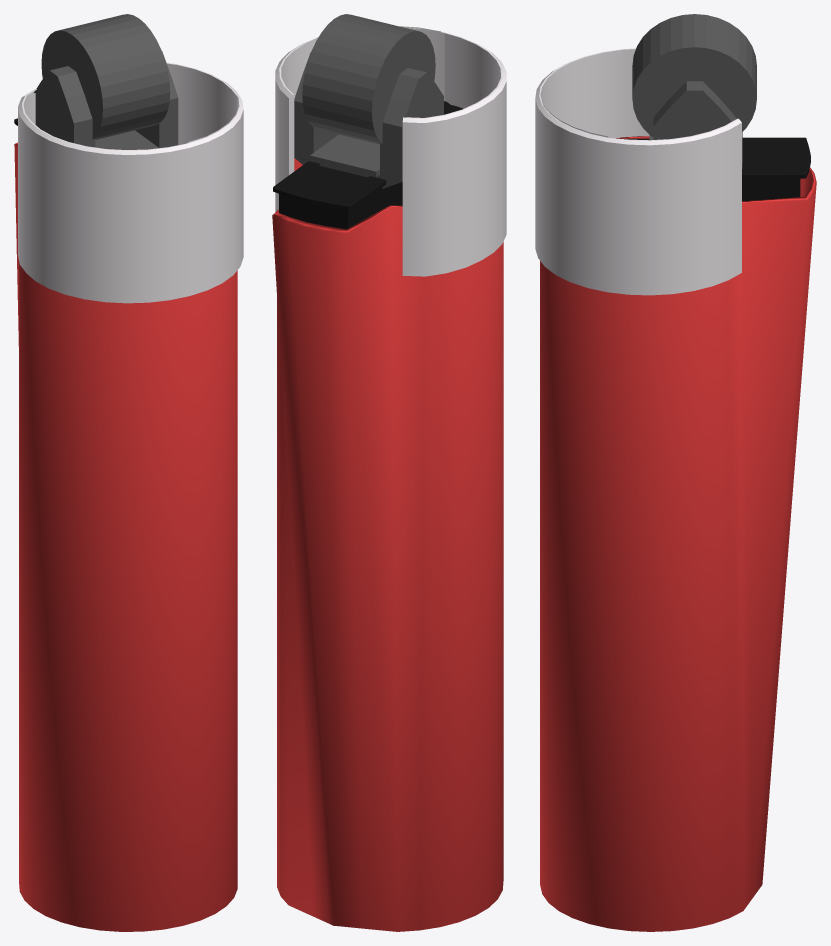
Rendered from Lighter01.fbx.
The picture shows the model from 3 angles, left to right: view 1: azimuth 30°, elevation 25°; view 2: azimuth 150°, elevation 25°; view 3: azimuth 270°, elevation 25°; orthographic projection. The views are drawn at different scales.
Visible parts, largest first — view 1: Lighter1; view 2: Lighter1; view 3: Lighter1.
Part boxes in pixels (<box>): Lighter1: <box>14,14,243,931</box>; Lighter1: <box>272,14,506,931</box>; Lighter1: <box>535,14,816,931</box>.
Size of the model in its own units: 171 by 705 by 211.
